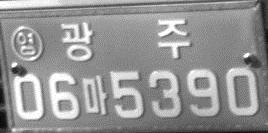0: (225, 67, 259, 116), (12, 73, 44, 121)
3: (147, 69, 182, 118)
5: (109, 71, 144, 119)
6: (47, 72, 80, 120)
9: (185, 68, 220, 117)
광주_D: (60, 18, 192, 62)
마: (81, 74, 109, 115)
영: (9, 24, 44, 62)
